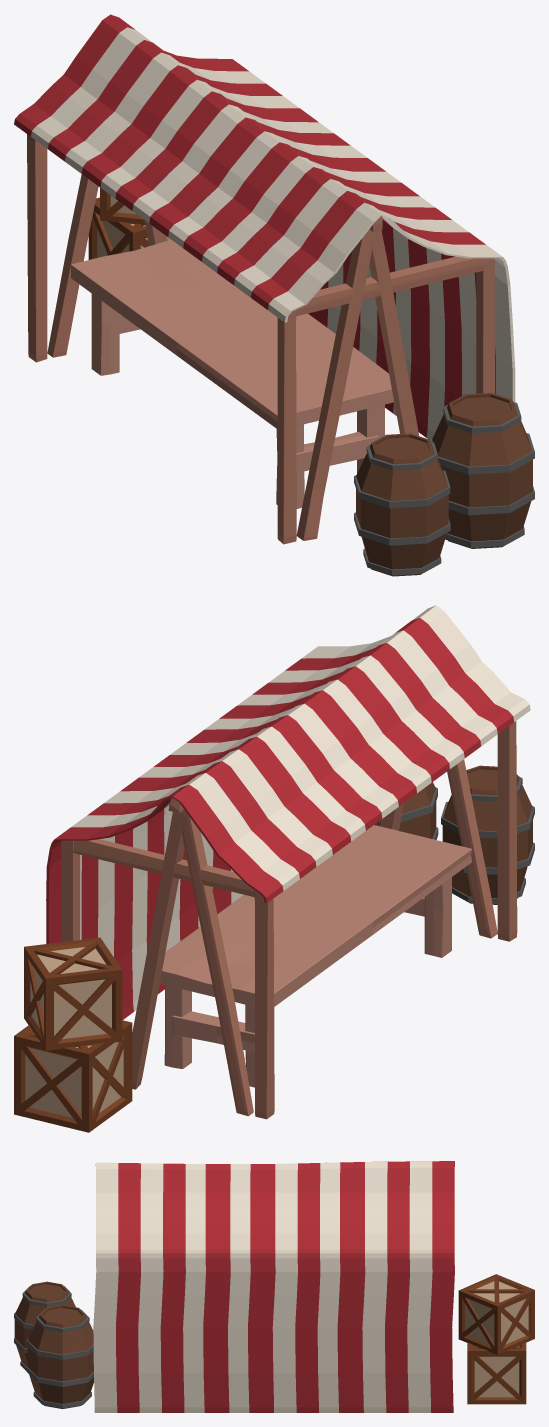
Rendered from marktstand-fixed.fbx.
3 views of the same model, one above another, from view 1: azimuth 30°, elevation 25°; view 2: azimuth 150°, elevation 25°; view 3: azimuth 270°, elevation 25° (orthographic). The views are drawn at different scales.
Parts seen in each view (by area): view 1: Plane, Cube.006, Cube, Cube.007, Cylinder, Cylinder.005, Cube.001, Cylinder.002, Cube.002, Cylinder.007, Cylinder.008, Cylinder.003 (+1 smaller); view 2: Plane, Cube.006, Cube.007, Cube, Cube.002, Cube.001, Cylinder.005, Cylinder; view 3: Plane, Cube.002, Cylinder, Cube.001, Cylinder.005, Cylinder.002, Cylinder.003, Cylinder.001.
Part boxes in pixels (x1=…): Plane: x1=14, y1=14, x2=515, y2=439; Cube.006: x1=71, y1=240, x2=394, y2=508; Cube: x1=27, y1=118, x2=494, y2=544; Cube.007: x1=47, y1=173, x2=419, y2=540; Cylinder: x1=432, y1=393, x2=532, y2=548; Cylinder.005: x1=356, y1=433, x2=448, y2=576; Cube.001: x1=88, y1=197, x2=171, y2=259; Cylinder.002: x1=430, y1=433, x2=534, y2=474; Cube.002: x1=100, y1=187, x2=145, y2=225; Cylinder.007: x1=354, y1=470, x2=450, y2=508; Cylinder.008: x1=354, y1=512, x2=450, y2=545; Cylinder.003: x1=448, y1=486, x2=534, y2=515; Plane: x1=46, y1=605, x2=530, y2=1019; Cube.006: x1=159, y1=825, x2=471, y2=1087; Cube.007: x1=132, y1=759, x2=497, y2=1116; Cube: x1=61, y1=721, x2=517, y2=1119; Cube.002: x1=24, y1=937, x2=122, y2=1050; Cube.001: x1=14, y1=1020, x2=132, y2=1132; Cylinder.005: x1=442, y1=765, x2=532, y2=904; Cylinder: x1=374, y1=782, x2=436, y2=838; Plane: x1=93, y1=1161, x2=454, y2=1412; Cube.002: x1=458, y1=1274, x2=534, y2=1354; Cylinder: x1=27, y1=1305, x2=93, y2=1408; Cube.001: x1=467, y1=1342, x2=526, y2=1404; Cylinder.005: x1=14, y1=1281, x2=75, y2=1366; Cylinder.002: x1=26, y1=1338, x2=93, y2=1359; Cylinder.003: x1=26, y1=1366, x2=93, y2=1386; Cylinder.001: x1=36, y1=1309, x2=89, y2=1332.
Size of the model in its own units: 244 by 326 by 726.
